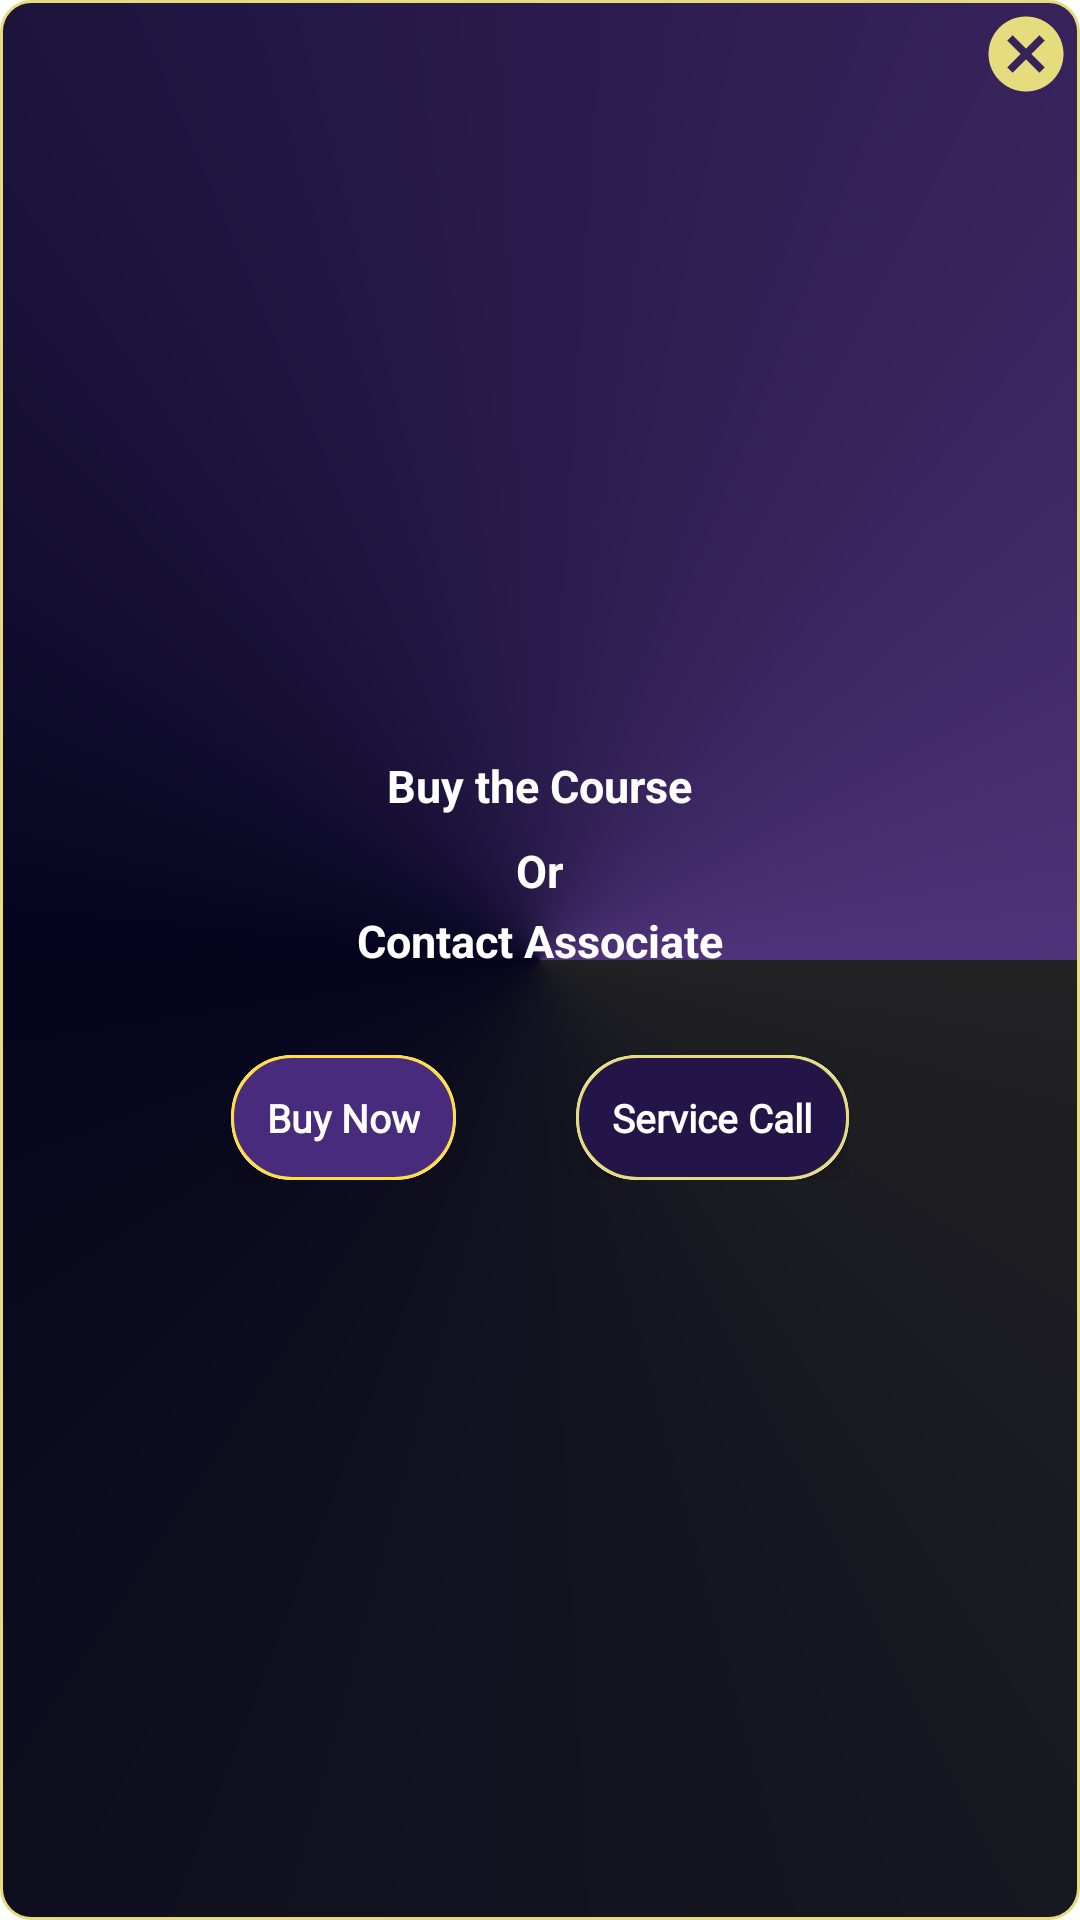

Icon click points for this 1080×1920 phone screenshot, format (x,y):
cancel: (1026,54)
